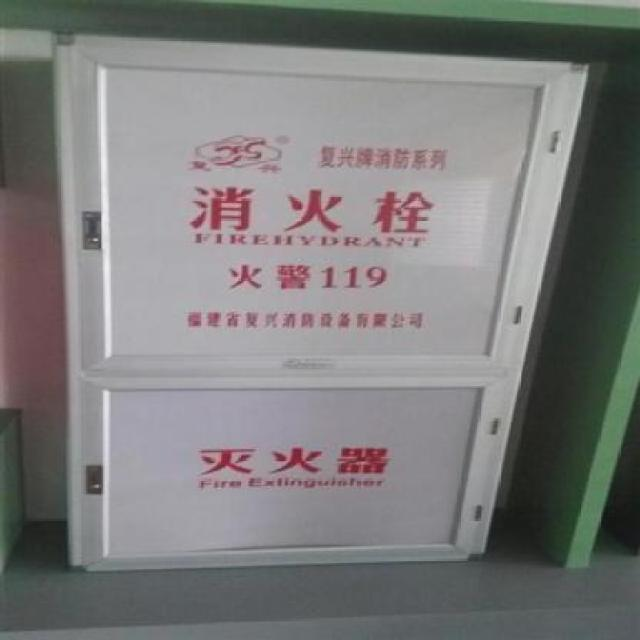firehydrant: (43, 29, 598, 576)
